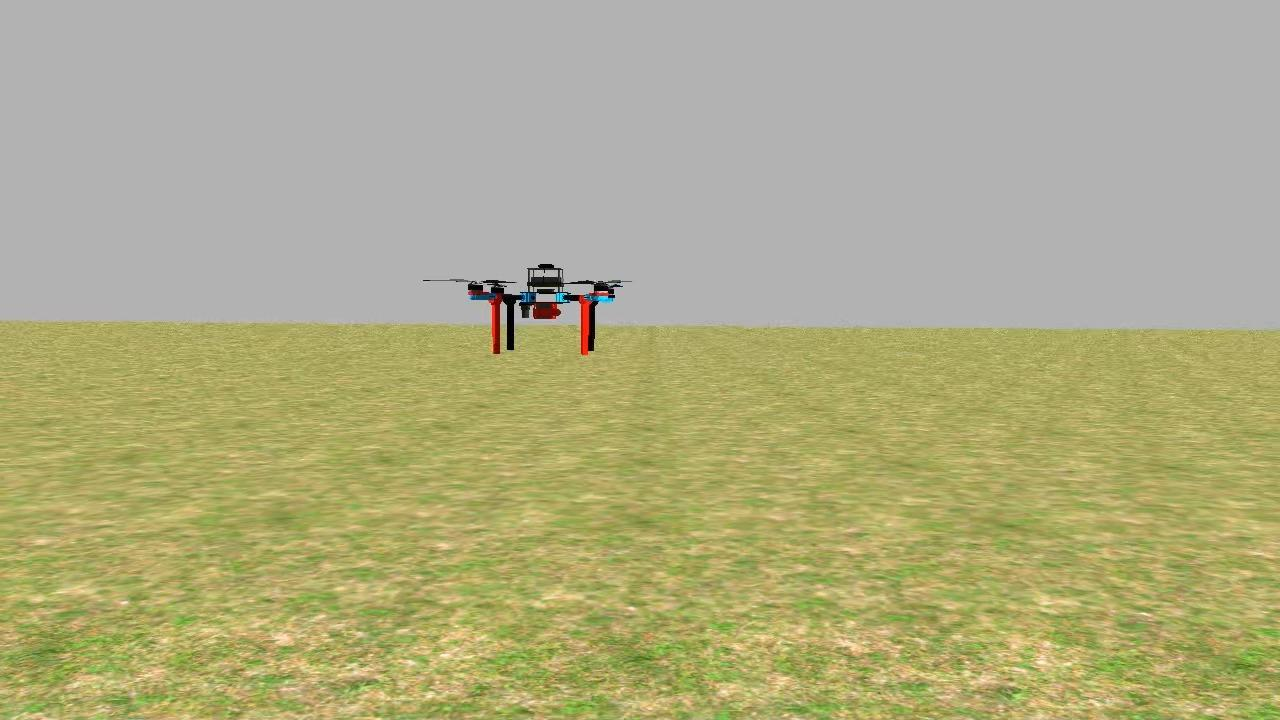UAV: (460, 260, 624, 357)
